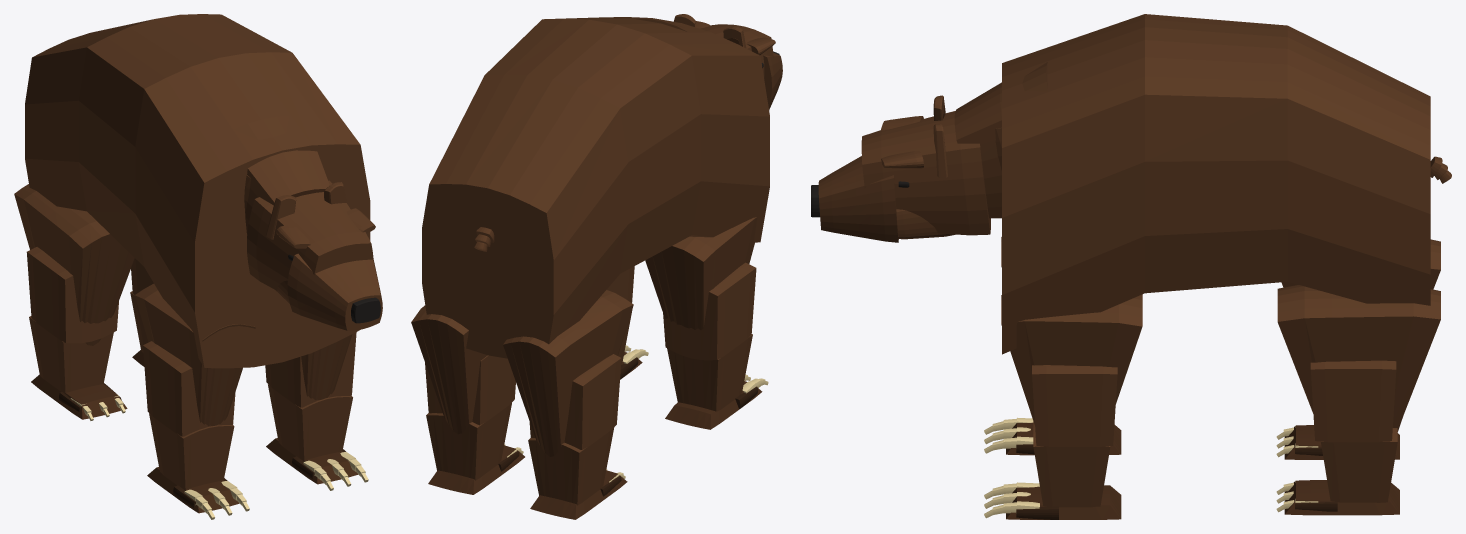
The model's file is terranova_baer.obj.
3 views of the same model, side by side, from view 1: azimuth 30°, elevation 25°; view 2: azimuth 150°, elevation 25°; view 3: azimuth 270°, elevation 25° (orthographic). The views are drawn at different scales.
Visible parts, largest first — view 1: Körper, Vorderbein, Hinterbein, Keule, Kopf, Schultermasse, Schnauze, Hals, Vorderhuf, Vorderkralle, Hinterhuf, Ohr (+3 smaller); view 2: Körper, Keule, Hinterbein, Vorderbein, Schultermasse, Hinterhuf, Vorderhuf, Schnauze, Kopf, Vorderkralle, Ohr, Vorderpfote; view 3: Körper, Keule, Hinterbein, Vorderbein, Kopf, Schultermasse, Schnauze, Hals, Hinterhuf, Vorderhuf, Vorderkralle, Brauenwulst (+3 smaller).
Boxes of the visible parts, x1=… form: Körper: x1=25, y1=14, x2=370, y2=368; Vorderbein: x1=143, y1=332, x2=356, y2=489; Hinterbein: x1=26, y1=247, x2=153, y2=393; Keule: x1=14, y1=184, x2=134, y2=345; Kopf: x1=247, y1=180, x2=373, y2=290; Schultermasse: x1=134, y1=283, x2=352, y2=425; Schnauze: x1=287, y1=253, x2=382, y2=330; Hals: x1=235, y1=116, x2=329, y2=234; Vorderhuf: x1=147, y1=438, x2=358, y2=513; Vorderkralle: x1=184, y1=452, x2=368, y2=519; Hinterhuf: x1=31, y1=350, x2=144, y2=419; Ohr: x1=266, y1=182, x2=346, y2=239; Körper: x1=422, y1=17, x2=769, y2=358; Keule: x1=411, y1=290, x2=633, y2=456; Hinterbein: x1=425, y1=354, x2=621, y2=505; Vorderbein: x1=606, y1=262, x2=756, y2=411; Schultermasse: x1=645, y1=217, x2=757, y2=329; Hinterhuf: x1=428, y1=445, x2=627, y2=519; Vorderhuf: x1=621, y1=352, x2=762, y2=429; Schnauze: x1=763, y1=52, x2=782, y2=109; Kopf: x1=700, y1=24, x2=773, y2=78; Vorderkralle: x1=622, y1=345, x2=768, y2=393; Ohr: x1=674, y1=14, x2=746, y2=48; Vorderpfote: x1=620, y1=357, x2=758, y2=409; Körper: x1=1002, y1=14, x2=1430, y2=354; Keule: x1=1277, y1=239, x2=1440, y2=431; Hinterbein: x1=1310, y1=360, x2=1397, y2=502; Vorderbein: x1=1032, y1=365, x2=1117, y2=507; Kopf: x1=861, y1=111, x2=990, y2=235; Schultermasse: x1=1001, y1=237, x2=1142, y2=424; Schnauze: x1=818, y1=156, x2=898, y2=242; Hals: x1=954, y1=62, x2=1047, y2=218; Hinterhuf: x1=1284, y1=425, x2=1399, y2=515; Vorderhuf: x1=1006, y1=422, x2=1121, y2=519; Vorderkralle: x1=984, y1=417, x2=1039, y2=518; Brauenwulst: x1=881, y1=116, x2=923, y2=168.
Bounding box in the file's own units: 0.7962 × 1.68 × 2.24.
